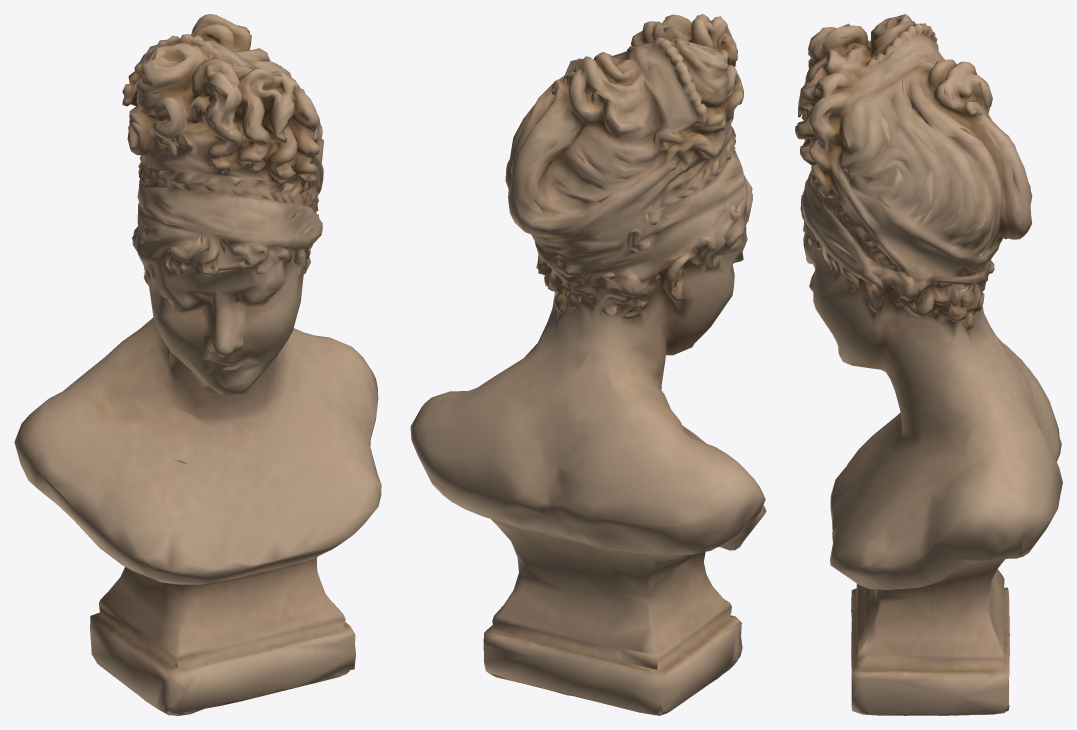
File: recamier-37201.glb
The picture shows the model from 3 angles, left to right: view 1: azimuth 30°, elevation 25°; view 2: azimuth 150°, elevation 25°; view 3: azimuth 270°, elevation 25°; orthographic projection. The views are drawn at different scales.
Visible parts, largest first — view 1: Mesh; view 2: Mesh; view 3: Mesh.
Boxes of the visible parts, <box> form: Mesh: <box>14,14,381,715</box>; Mesh: <box>410,14,766,715</box>; Mesh: <box>795,14,1062,715</box>.
Size of the model in its own units: 0.337 by 0.6061 by 0.2352.
Materials: 1 (1 with a texture image).
